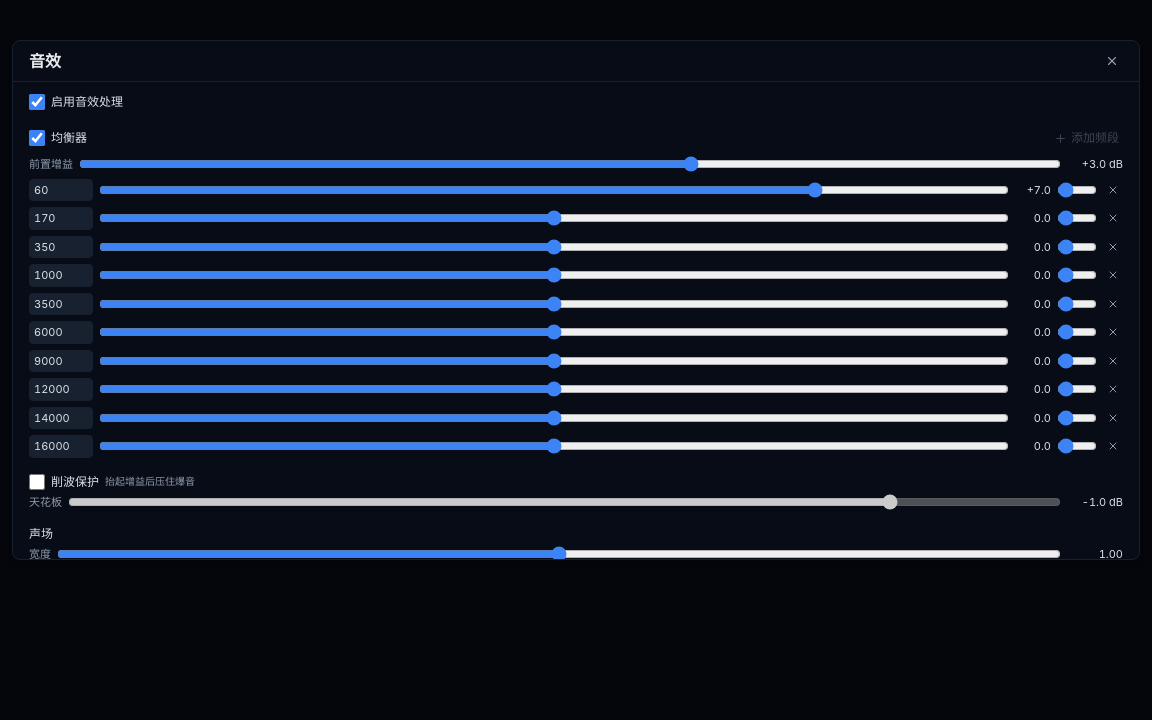
AudioFxPanel (QYP3-068v) › removes a band
Click the button named "删除第 1 段".
click(1113, 190)  # box x1=1103 y1=180 x2=1123 y2=200
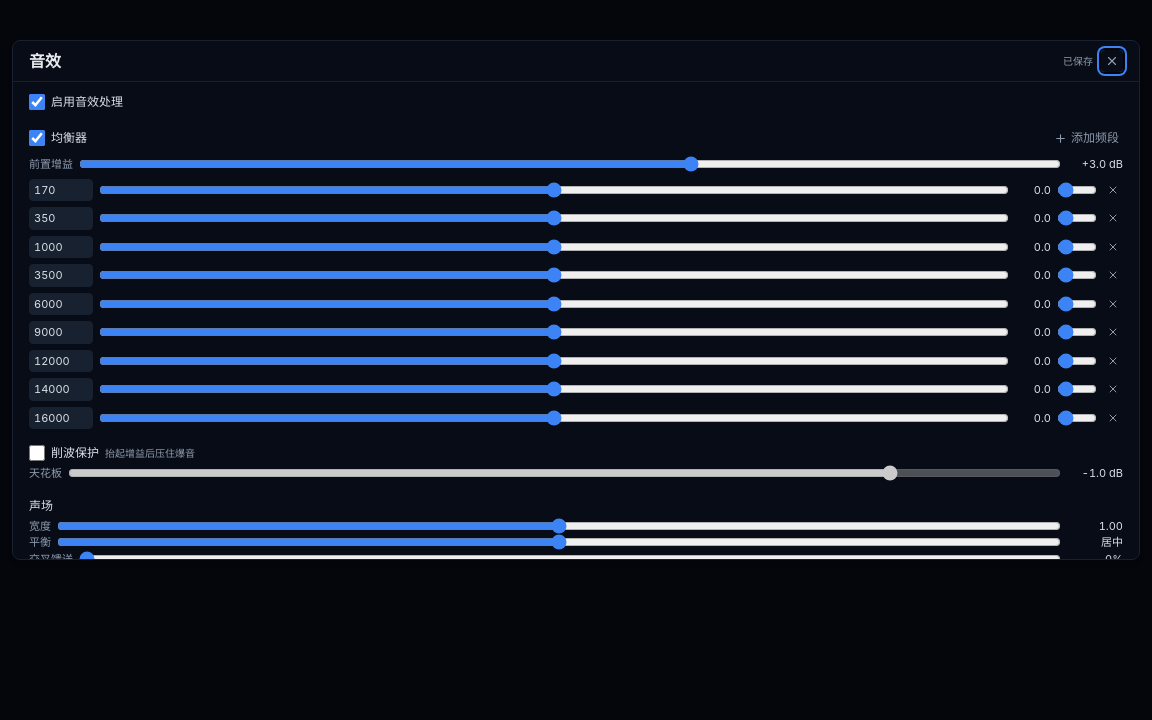
Now the number of sliders named "段增益" is 9
